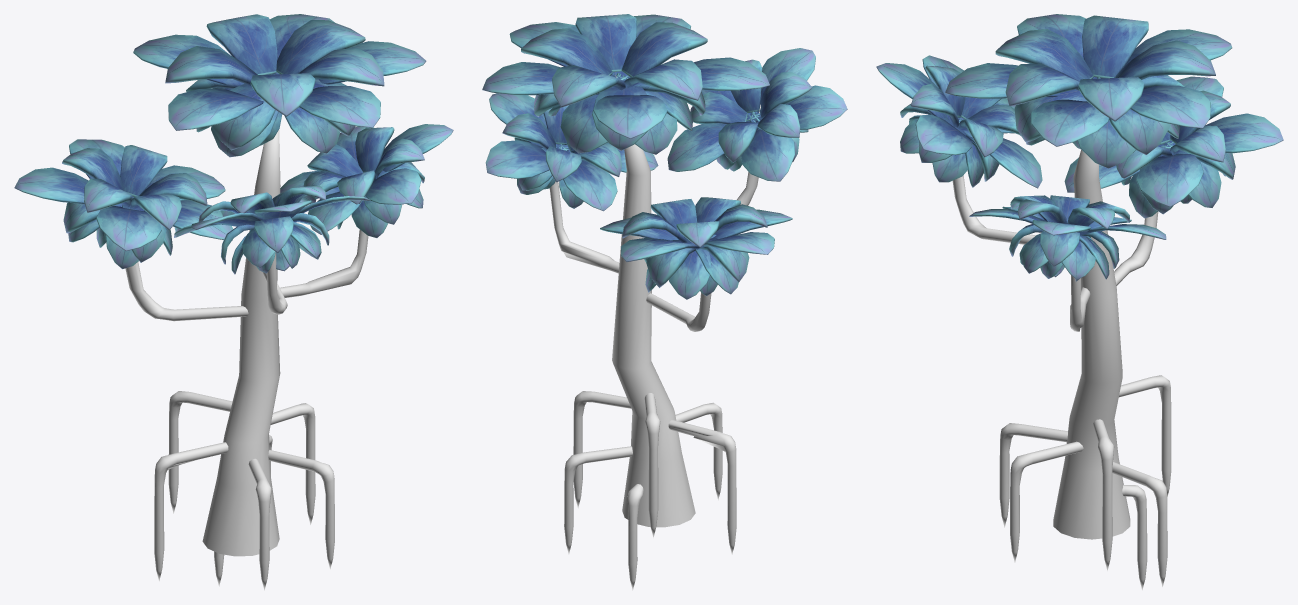
File: MOD_Tree17.FBX
3 views of the same model, side by side, from view 1: azimuth 30°, elevation 25°; view 2: azimuth 150°, elevation 25°; view 3: azimuth 270°, elevation 25° (orthographic). The views are drawn at different scales.
Parts seen in each view (by area): view 1: Cylinder010, Object041, Object042, Object043, Plane042; view 2: Object041, Cylinder010, Plane042, Object042, Object043; view 3: Object041, Cylinder010, Plane042, Object042, Object043.
Boxes of the visible parts, x1=… form: Cylinder010: x1=125, y1=130, x2=368, y2=590; Object041: x1=133, y1=14, x2=426, y2=157; Object042: x1=14, y1=139, x2=233, y2=269; Object043: x1=280, y1=124, x2=453, y2=237; Plane042: x1=174, y1=185, x2=370, y2=274; Object041: x1=482, y1=14, x2=769, y2=154; Cylinder010: x1=549, y1=75, x2=760, y2=590; Plane042: x1=667, y1=48, x2=847, y2=181; Object042: x1=600, y1=197, x2=792, y2=299; Object043: x1=485, y1=93, x2=658, y2=211; Object041: x1=945, y1=14, x2=1232, y2=168; Cylinder010: x1=952, y1=150, x2=1171, y2=590; Plane042: x1=876, y1=55, x2=1042, y2=188; Object042: x1=1064, y1=76, x2=1283, y2=218; Object043: x1=969, y1=195, x2=1166, y2=281.
Size of the model in its own units: 139 by 199 by 132.
